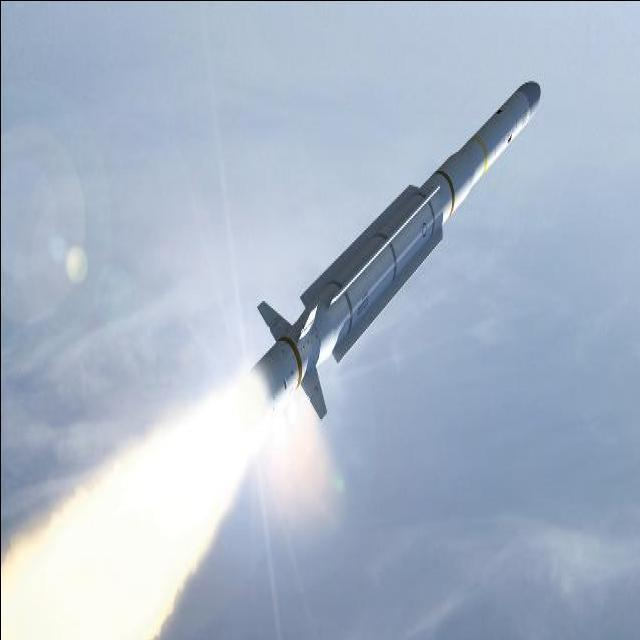missile: (242, 78, 540, 420)
